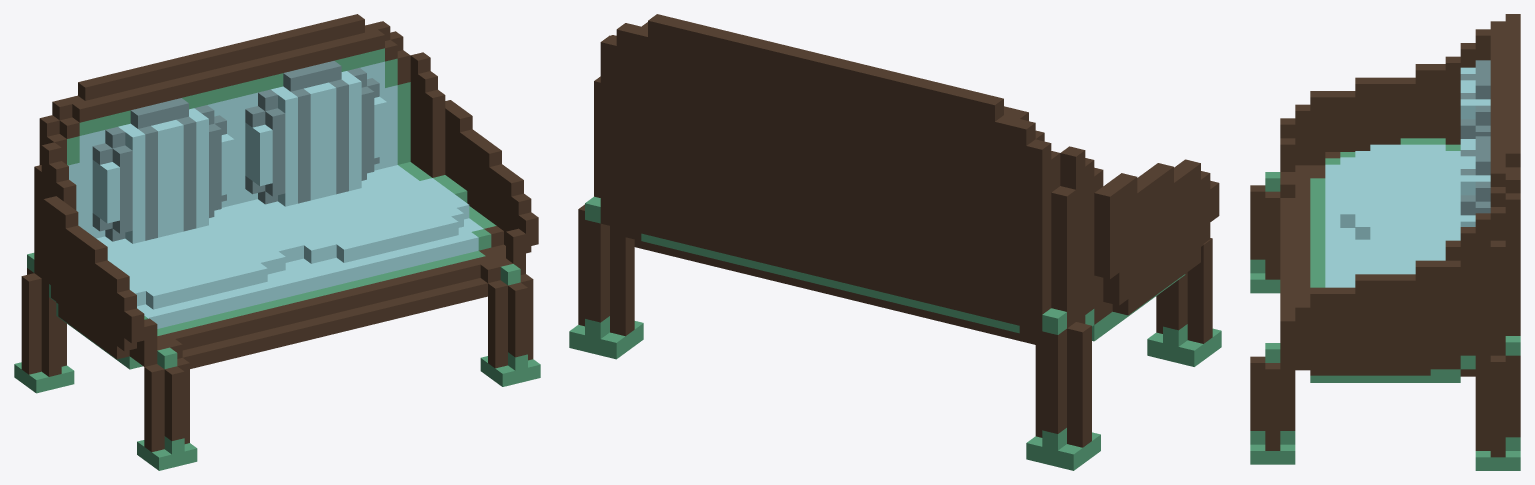
File: prop_couch.glb
The picture shows the model from 3 angles, left to right: view 1: azimuth 30°, elevation 25°; view 2: azimuth 150°, elevation 25°; view 3: azimuth 270°, elevation 25°; orthographic projection. The views are drawn at different scales.
Visible parts, largest first — view 1: prop_couch; view 2: prop_couch; view 3: prop_couch.
Boxes of the visible parts, x1,y1,x2,y2 form: prop_couch: (14, 14, 540, 470); prop_couch: (569, 14, 1221, 470); prop_couch: (1250, 14, 1520, 470).
Bounding box in the file's own units: 3.2 × 2.1 × 1.8.
1 material, 1 textured.
